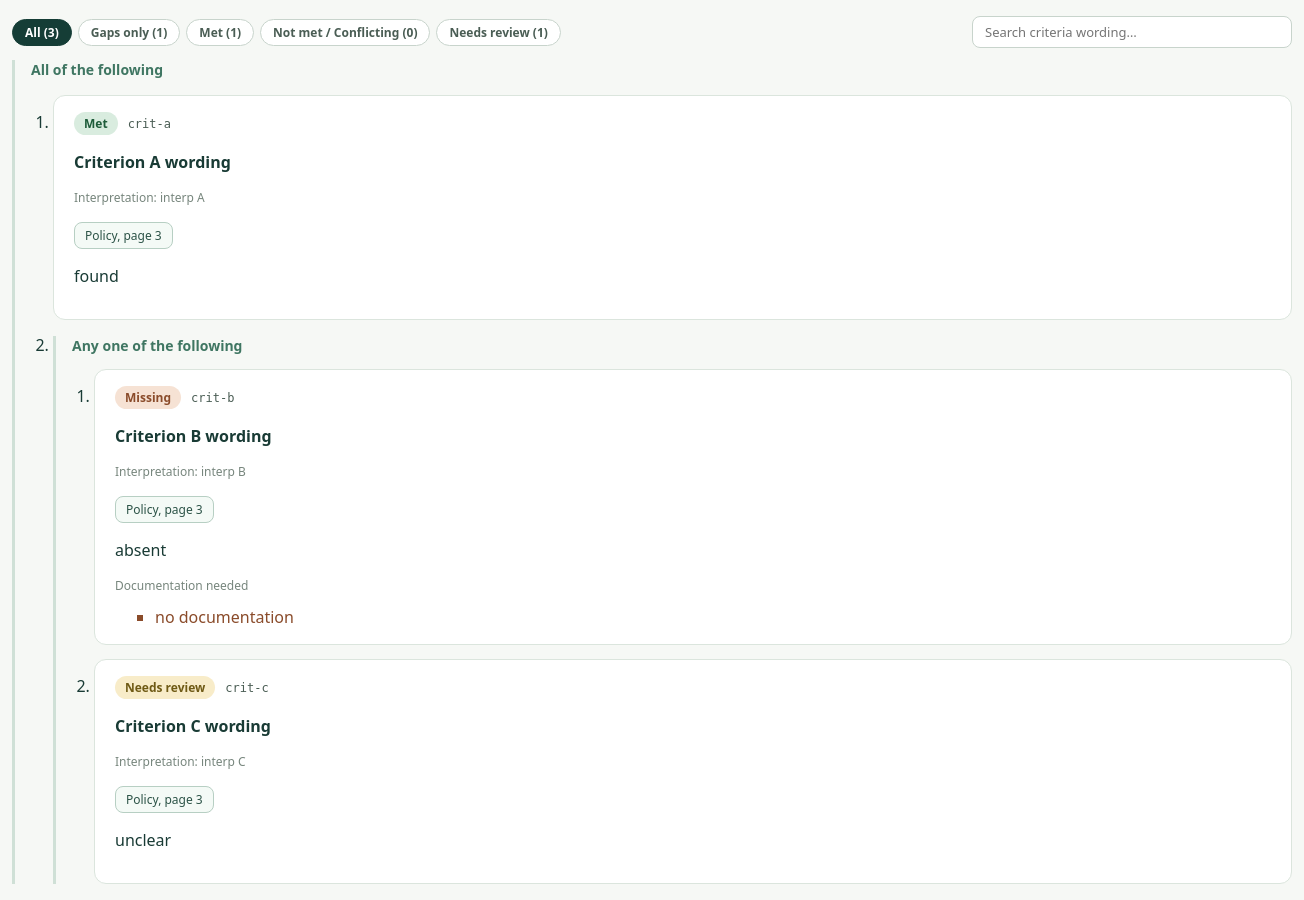
Scenario: Checklist › filters criteria when clicking Gaps only tab
The width and height of the screenshot is (1304, 900).
Check: the element named "Finding: crit-a" is shown, box [53,95,1292,320]
Check: the element named "Finding: crit-b" is shown, box [94,369,1292,645]
Click the button "Needs review (1)" at (499, 32), box [436,18,561,46]
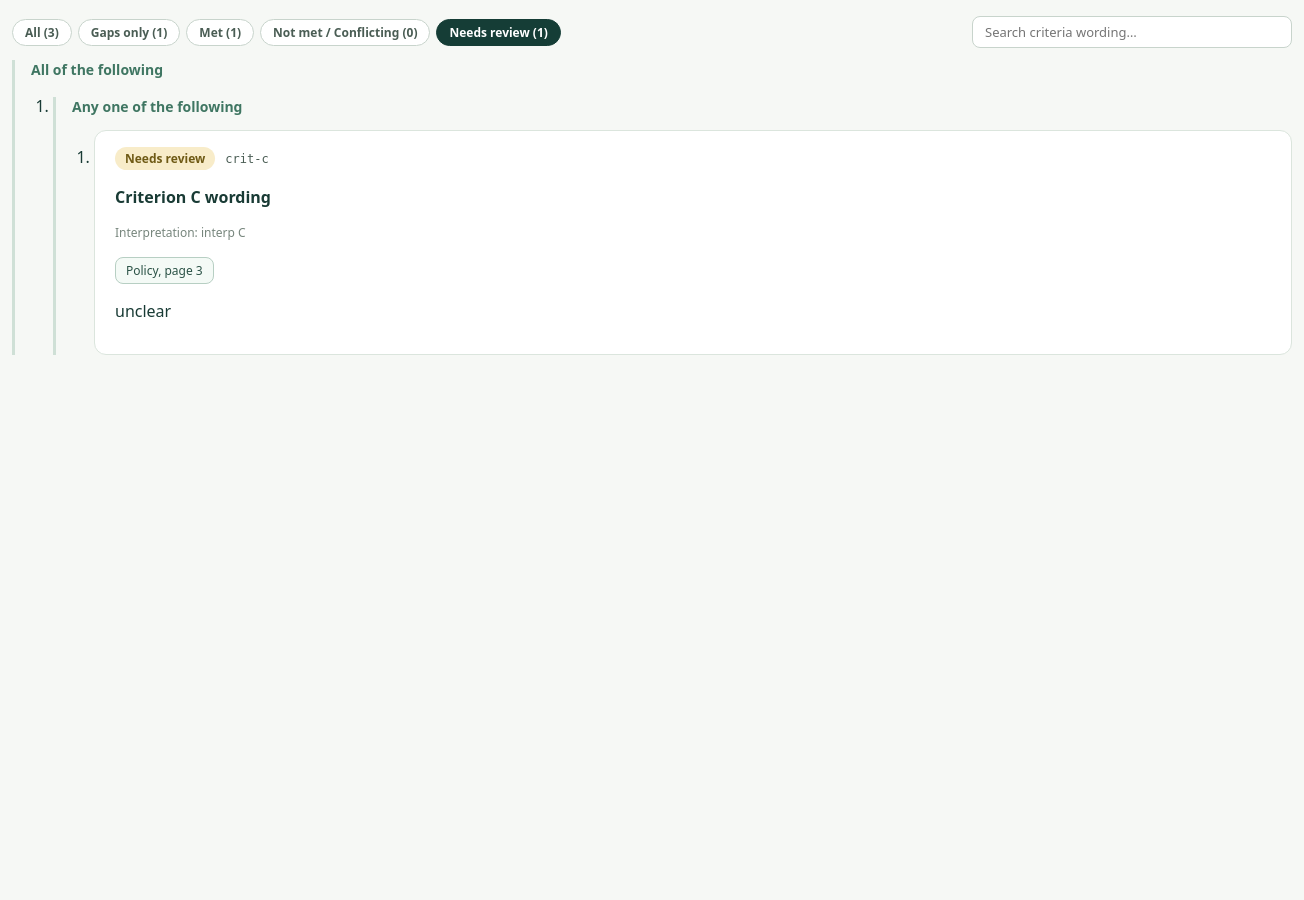
Check: the element named "Finding: crit-c" is shown, box [94,130,1292,355]
Click the button "Gaps only (1)" at (129, 32), box [78,18,180,46]
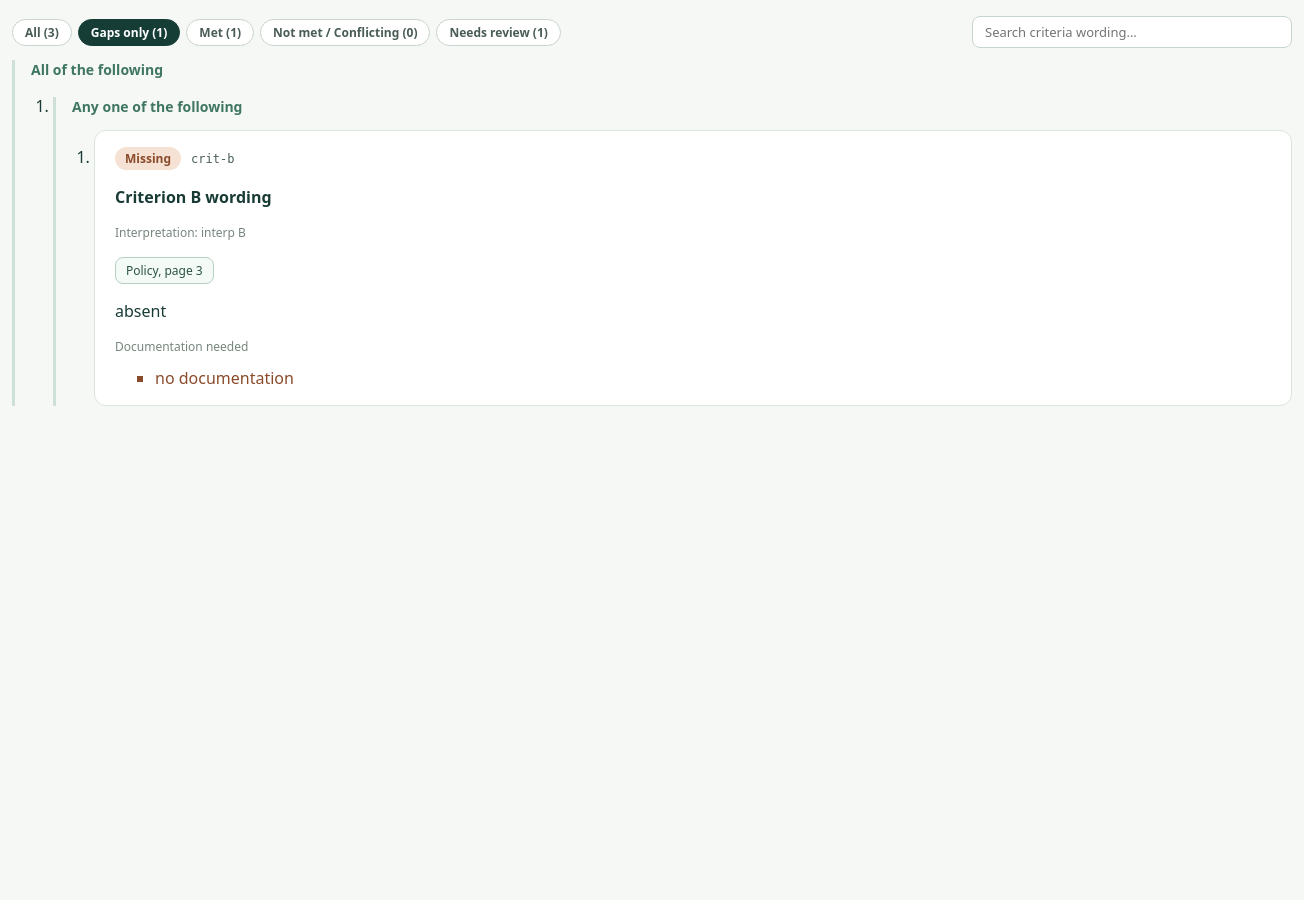
Check: the element named "Finding: crit-b" is shown, box [94,130,1292,406]
